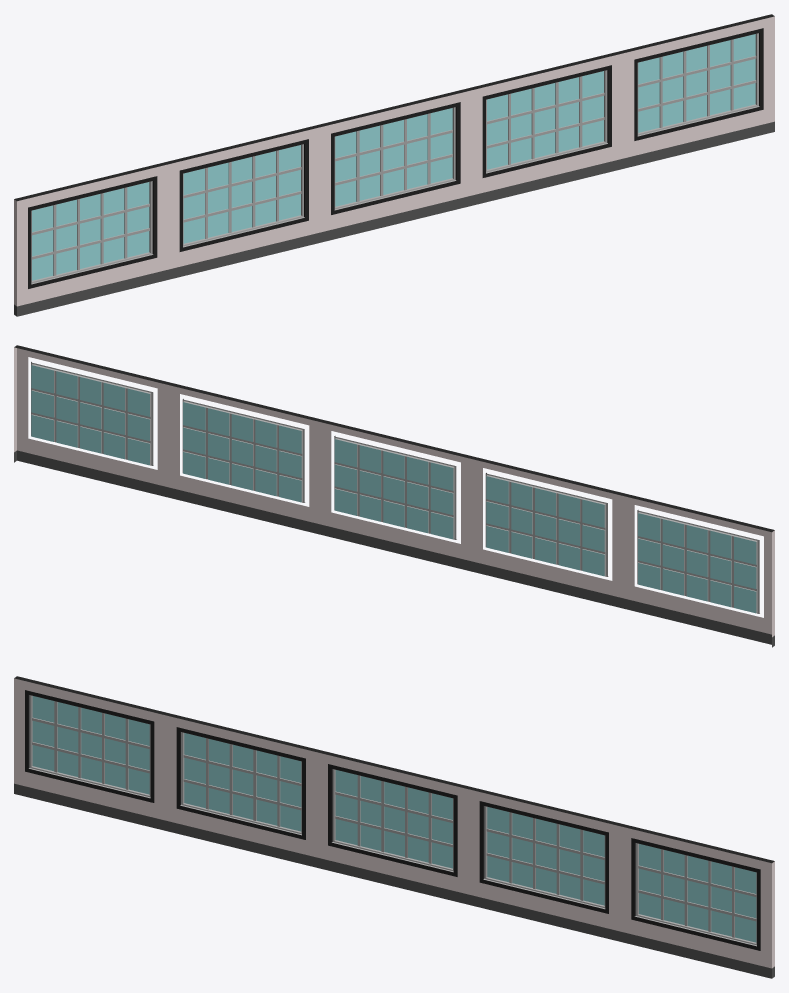
File: window_wall_cafe.fbx
3 renders of one model, top to bottom at view 1: azimuth 30°, elevation 25°; view 2: azimuth 150°, elevation 25°; view 3: azimuth 330°, elevation 25°, orthographic.
Visible parts, largest first — view 1: window_wall_cafe; view 2: window_wall_cafe; view 3: window_wall_cafe.
Boxes of the visible parts, left/top/right/bottom form: window_wall_cafe: left=14, top=14, right=774, bottom=316; window_wall_cafe: left=14, top=345, right=774, bottom=647; window_wall_cafe: left=14, top=676, right=774, bottom=978.
Bounding box in the file's own units: 4218 × 614 × 29.05.
